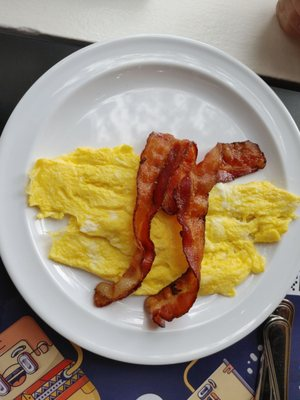burger: (0, 314, 102, 400)
